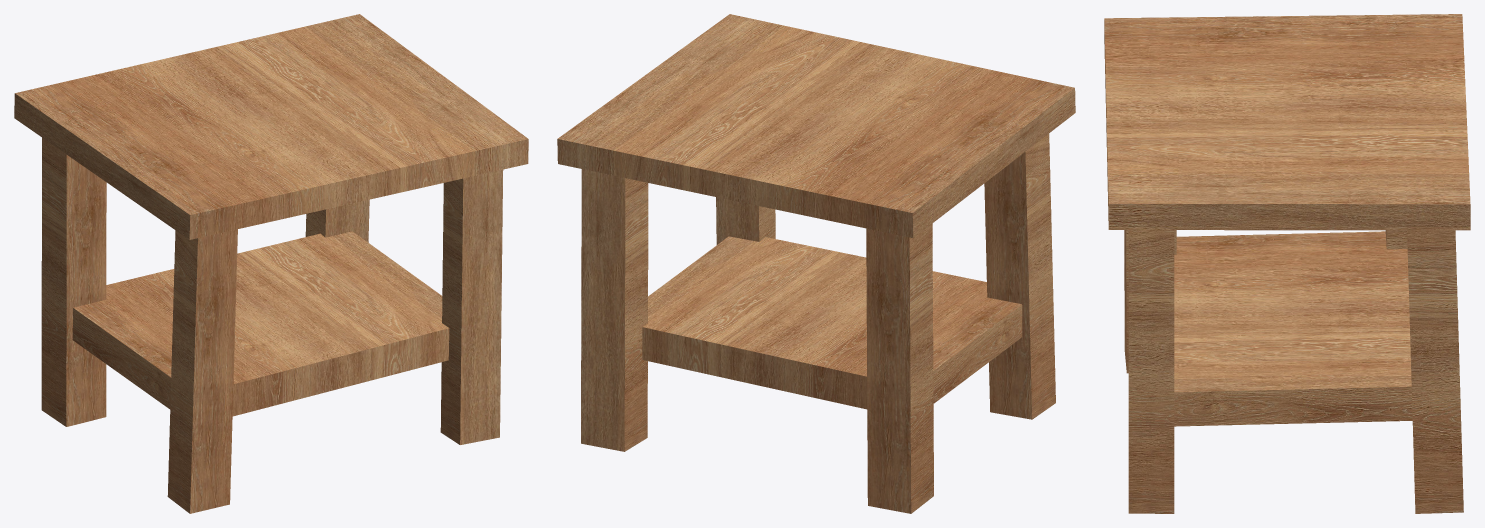
The model's file is 26150_ours.glb.
3 views of the same model, side by side, from view 1: azimuth 30°, elevation 25°; view 2: azimuth 150°, elevation 25°; view 3: azimuth 270°, elevation 25° (orthographic). The views are drawn at different scales.
Visible parts, largest first — view 1: ParentEmpty; view 2: ParentEmpty; view 3: ParentEmpty.
Part boxes in pixels (<box>): ParentEmpty: <box>14,14,528,513</box>; ParentEmpty: <box>557,14,1075,513</box>; ParentEmpty: <box>1104,14,1470,513</box>.
Size of the model in its own units: 1 by 0.8517 by 0.8532.
1 material, 1 textured.
